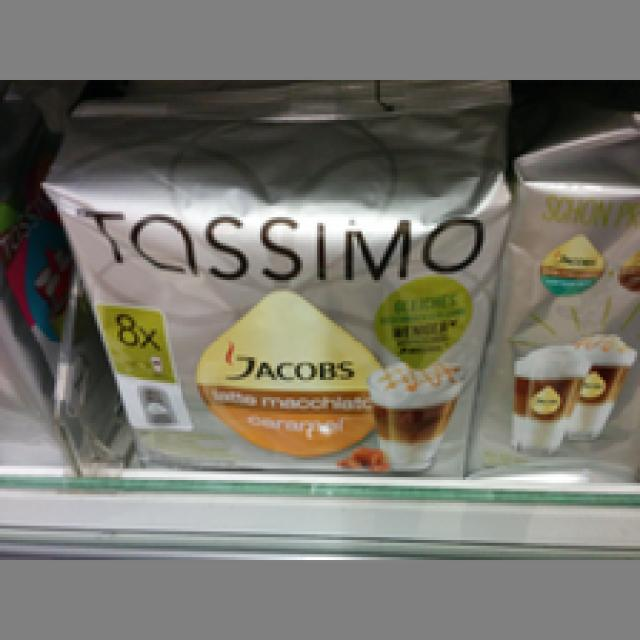groceries: (40, 77, 520, 466), (477, 103, 637, 474)
